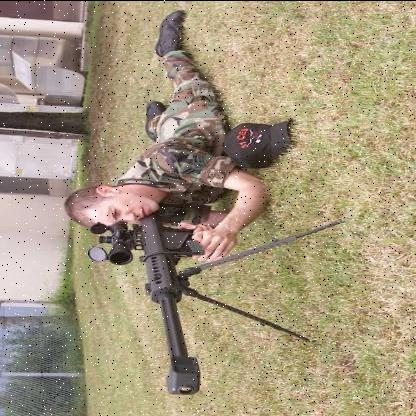rifle: (72, 202, 235, 398)
